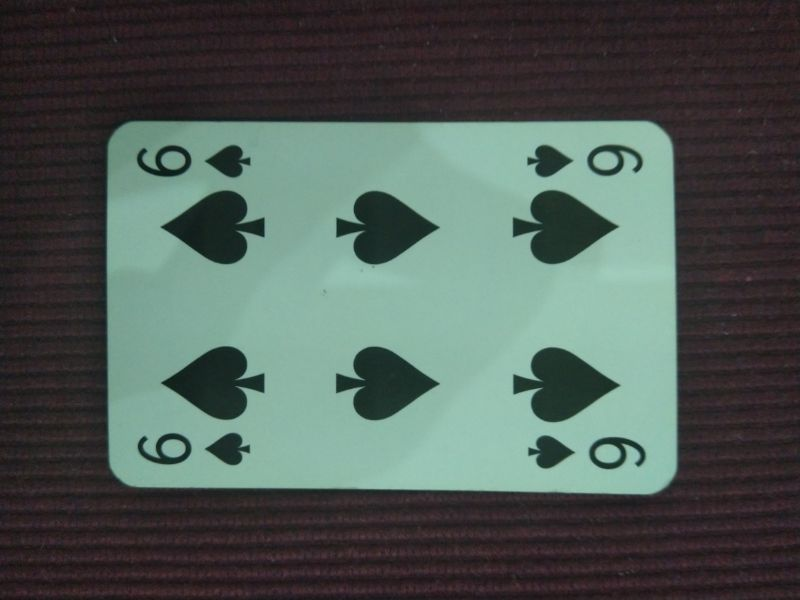6s: (522, 427, 651, 477), (131, 138, 260, 184), (521, 136, 647, 183), (134, 425, 259, 469)
